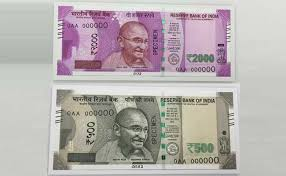twoThousand: (65, 19, 219, 65)
